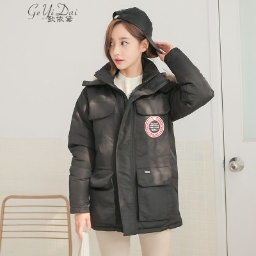face: (101, 15, 155, 72)
